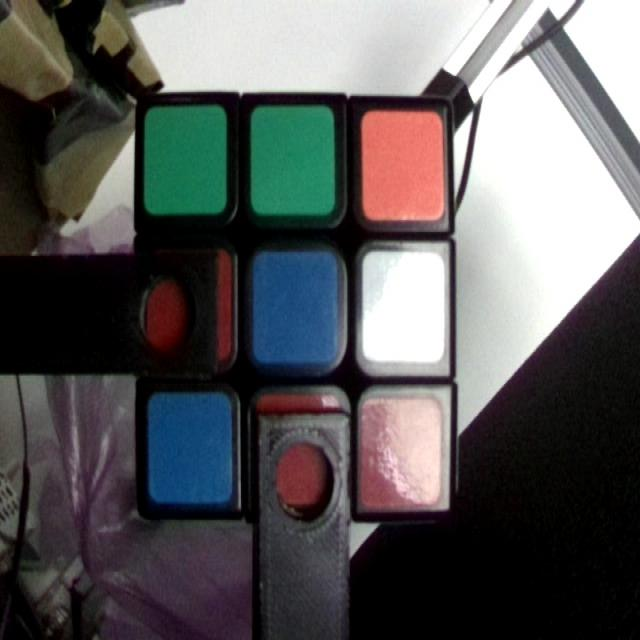b: (257, 255, 337, 363), (150, 397, 232, 502)
g: (252, 107, 335, 208), (148, 107, 225, 209)
o: (366, 112, 448, 220)
r: (143, 246, 229, 360), (358, 394, 444, 505), (259, 395, 342, 510)
w: (364, 253, 444, 364)
